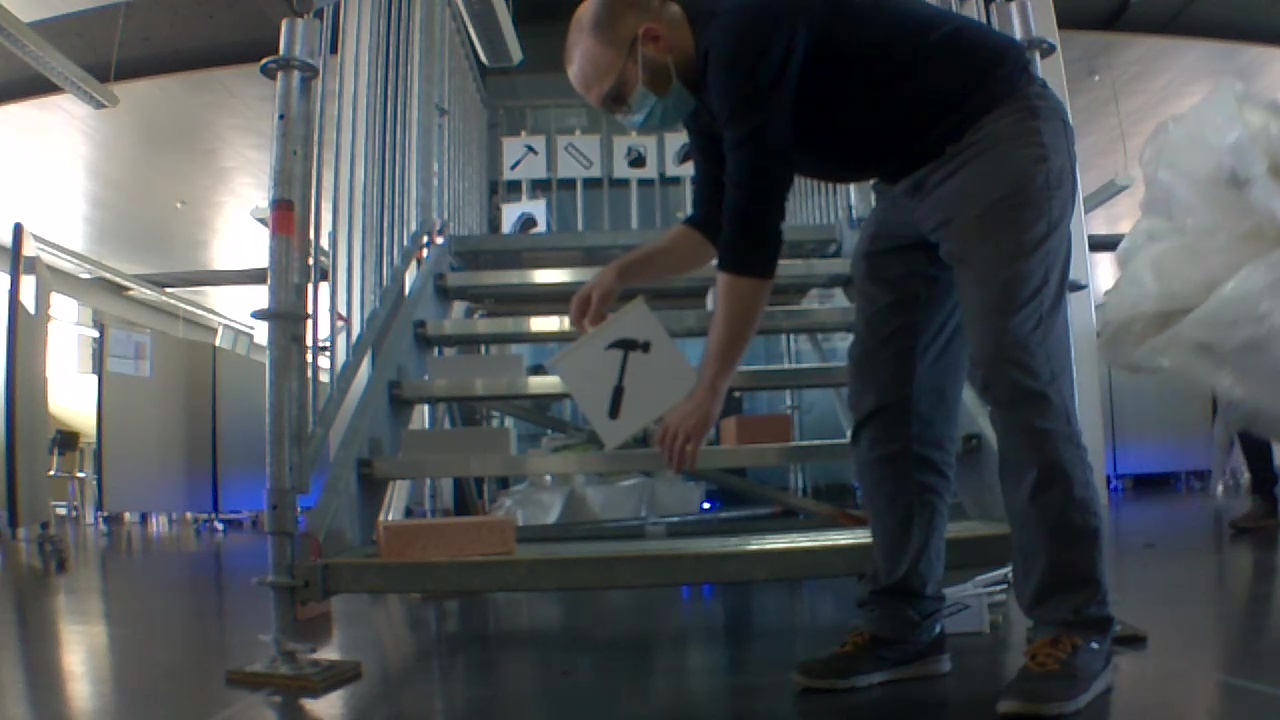brick: (377, 518, 515, 557), (402, 429, 517, 457), (427, 354, 526, 381), (721, 414, 794, 445)
bucket: (618, 142, 651, 172)
hammer: (591, 334, 654, 425), (506, 140, 539, 175)
ruler: (561, 140, 593, 175)
taco: (508, 209, 536, 232)
